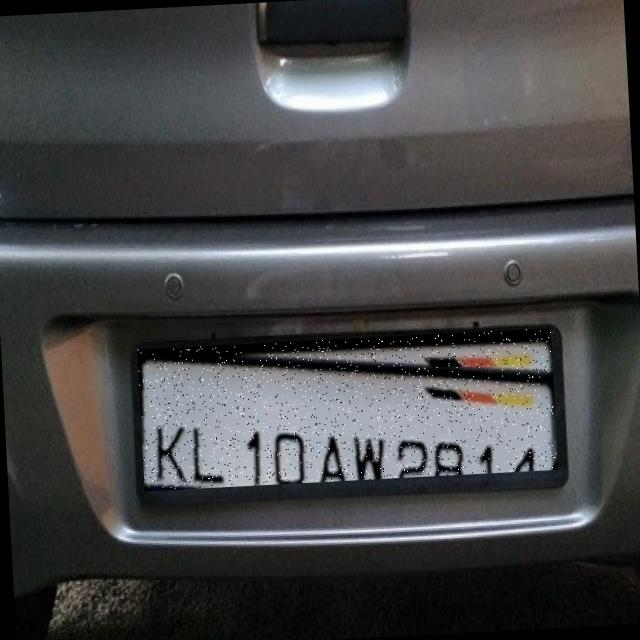Plate: (138, 329, 559, 492)
